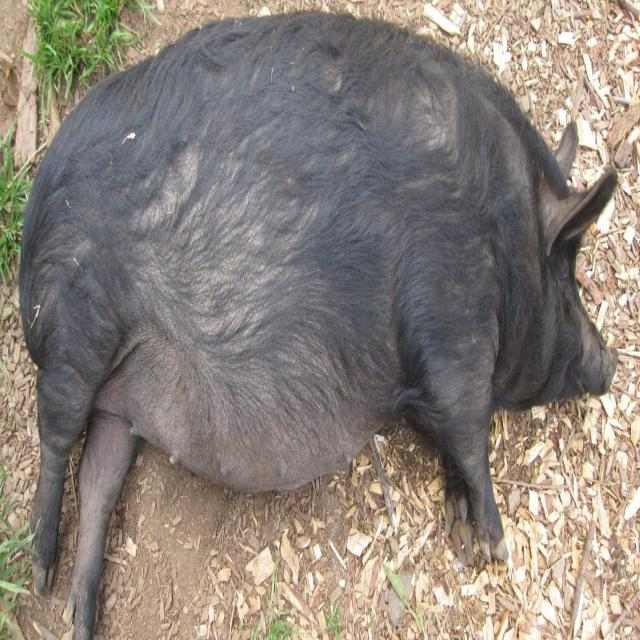pig: (16, 12, 619, 640)
